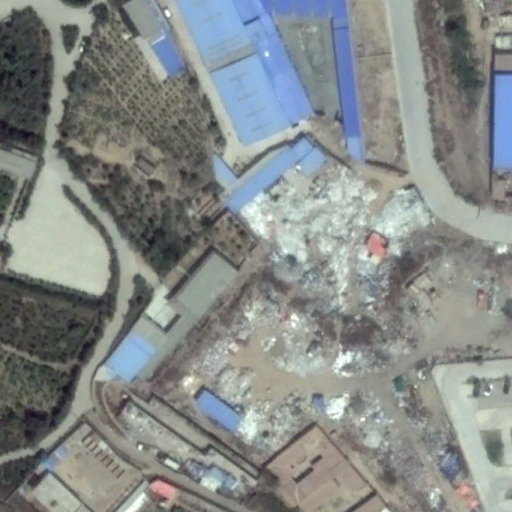msw: (181, 168, 444, 452)
